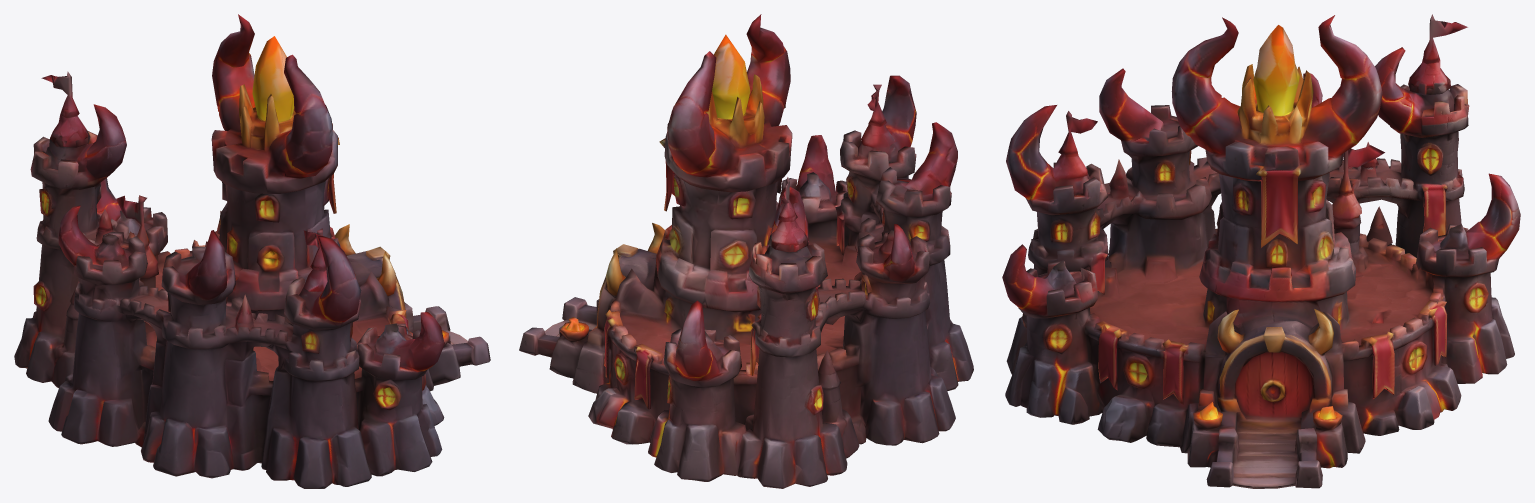
File: Town_Horns_Castle_raw.glb
3 views of the same model, side by side, from view 1: azimuth 30°, elevation 25°; view 2: azimuth 150°, elevation 25°; view 3: azimuth 270°, elevation 25° (orthographic). The views are drawn at different scales.
Visible parts, largest first — view 1: tripo_node_d38c74f4-d34e-4fc9-8949-0982bd962d06; view 2: tripo_node_d38c74f4-d34e-4fc9-8949-0982bd962d06; view 3: tripo_node_d38c74f4-d34e-4fc9-8949-0982bd962d06.
Boxes of the visible parts, box(x1,y1,x2,y2) form: tripo_node_d38c74f4-d34e-4fc9-8949-0982bd962d06: box(14, 14, 490, 488); tripo_node_d38c74f4-d34e-4fc9-8949-0982bd962d06: box(519, 14, 973, 488); tripo_node_d38c74f4-d34e-4fc9-8949-0982bd962d06: box(1002, 14, 1520, 488).
Size of the model in its own units: 0.9563 by 0.7992 by 1.
Materials: 1 (1 with a texture image).
